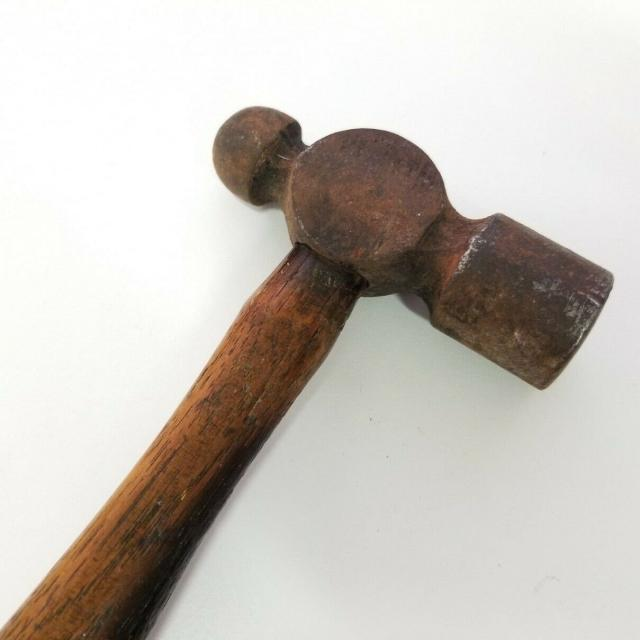hammer: (0, 94, 621, 640)
